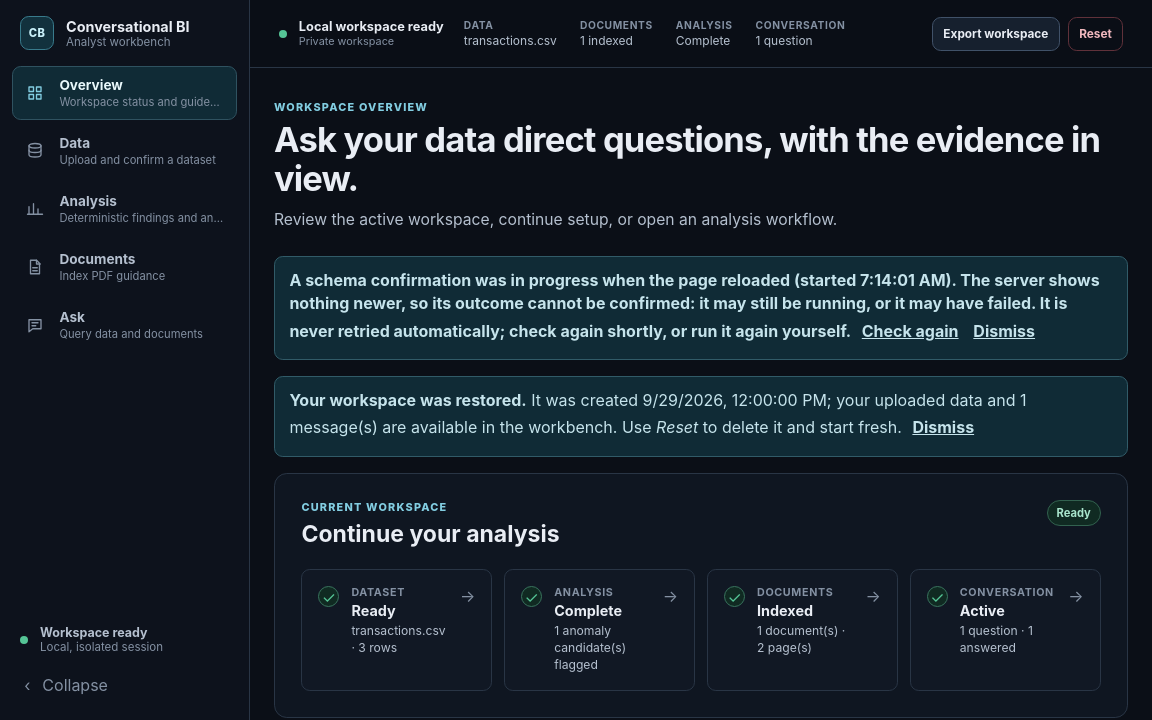
reload during an operation › Dismiss acknowledges an unconfirmed outcome and removes the marker
Expected: the text "A schema confirmation was in progress" is shown, [289,270,1100,341]
Click the 1st button "Dismiss" at (1004,331), box [969,316,1039,347]
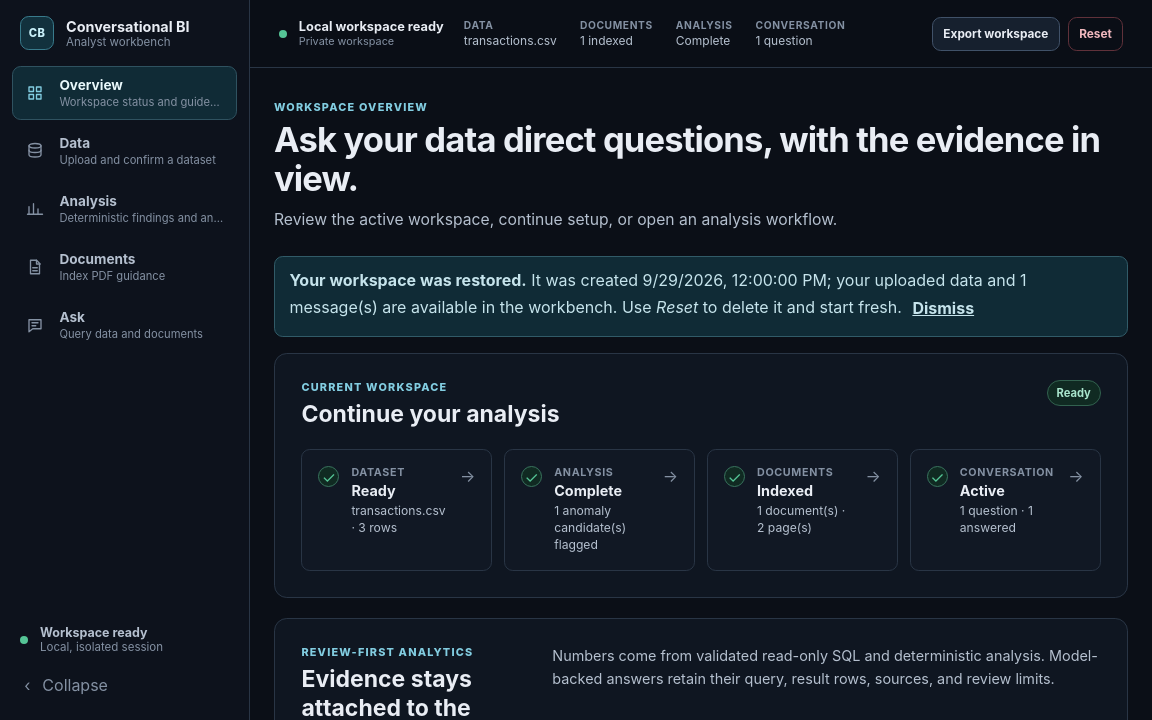
Now the text "A schema confirmation was in progress" is gone
